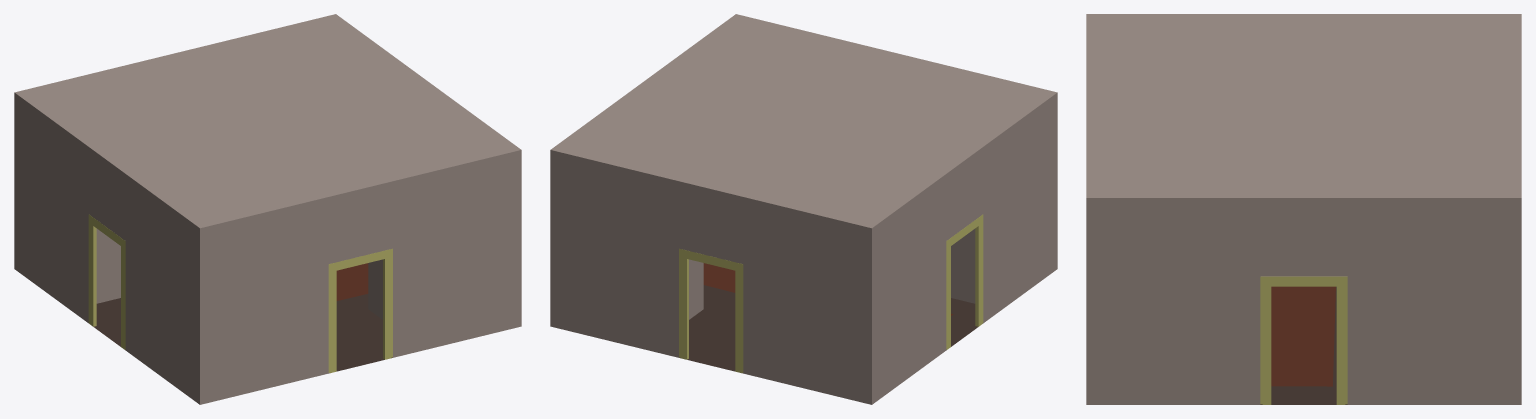
File: Room18_DustyHallway.fbx
The picture shows the model from 3 angles, left to right: view 1: azimuth 30°, elevation 25°; view 2: azimuth 150°, elevation 25°; view 3: azimuth 270°, elevation 25°; orthographic projection. The views are drawn at different scales.
Parts seen in each view (by area): view 1: Roof, WallSlicedPosZ, WallSlicedPosX, WallSlicedPosZ32, WallSlicedPosX5, Floor, DoorFramePosZ, DoorFramePosX, pCube85, pPlane7, pCube87, WallSlicedNegX (+1 smaller); view 2: Roof, WallSlicedNegZ, WallSlicedPosX, WallSlicedNegZ24, WallSlicedPosX5, Floor, DoorFrameNegZ, DoorFramePosX, pCube84, pCube86, pPlane7, WallSlicedPosZ; view 3: Roof, WallSlicedNegX, WallSlicedNegX18, pPlane7, DoorFrameNegX, Floor, WallSlicedNegZ, WallSlicedPosZ, WallSlicedPosX.
Boxes of the visible parts, x1,y1,x2,y2 form: Roof: (17,15,518,227); WallSlicedPosZ: (199,149,521,364); WallSlicedPosX: (14,92,201,364); WallSlicedPosZ32: (198,286,521,404); WallSlicedPosX5: (14,229,201,404); Floor: (89,294,392,373); DoorFramePosZ: (328,248,392,372); DoorFramePosX: (88,214,125,349); pCube85: (96,228,120,303); pPlane7: (336,263,368,300); pCube87: (368,259,382,319); WallSlicedNegX: (335,14,521,286); Roof: (553,15,1054,227); WallSlicedNegZ: (550,149,872,364); WallSlicedPosX: (870,92,1057,364); WallSlicedNegZ24: (550,286,872,404); WallSlicedPosX5: (869,230,1056,404); Floor: (679,285,982,373); DoorFrameNegZ: (679,248,743,372); DoorFramePosX: (946,214,983,349); pCube84: (951,228,975,303); pCube86: (689,259,703,319); pPlane7: (703,263,953,315); WallSlicedPosZ: (737,14,1057,228); Roof: (1088,14,1519,197); WallSlicedNegX: (1086,197,1521,357); WallSlicedNegX18: (1086,357,1521,404); pPlane7: (1271,286,1335,386); DoorFrameNegX: (1260,276,1347,404); Floor: (1260,286,1347,404); WallSlicedNegZ: (1520,14,1521,357); WallSlicedPosZ: (1086,14,1087,357); WallSlicedPosX: (1086,14,1521,14).
Size of the model in its own units: 800 by 420 by 800.
